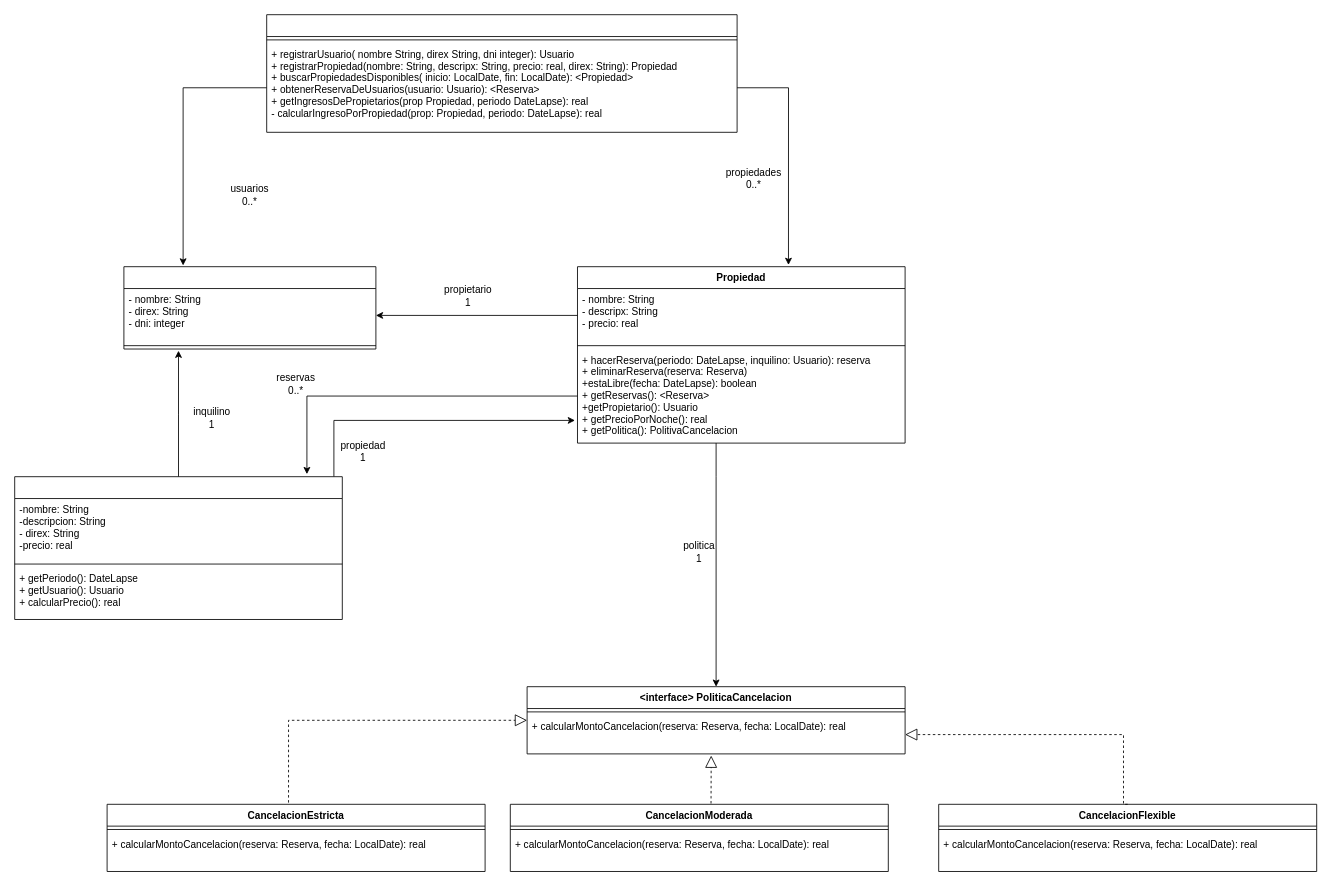
Some shapes in this 1331 by 889 pixel diagram are drawn without their labels. Here are the shapes that lost their labels. From the top down, the box of each, then its label:
(266, 14, 737, 132): OOBnB
(123, 266, 376, 349): Usuario
(14, 476, 342, 620): Reserva
